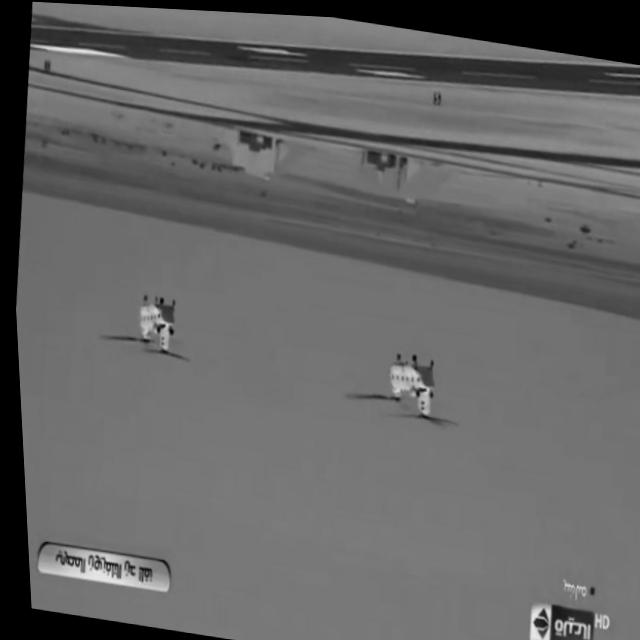helikopter: (331, 324, 479, 444), (78, 258, 209, 380)
